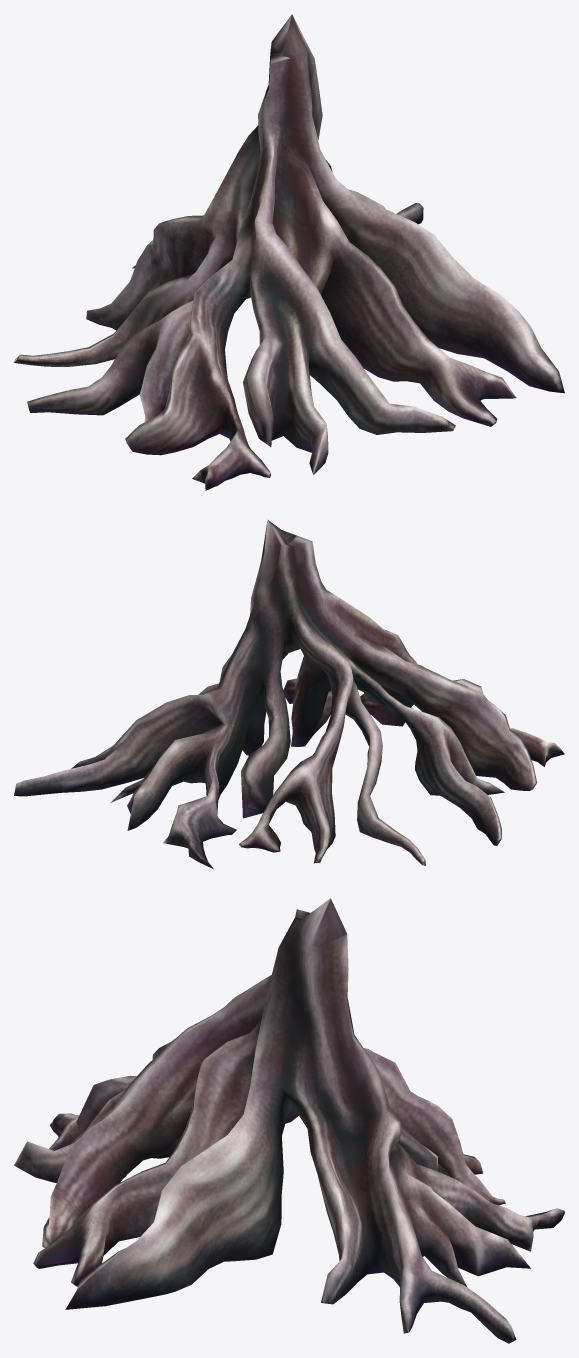
Rendered from TreeTrunk_DEFAULT.dae.
The picture shows the model from 3 angles, top to bottom: view 1: azimuth 30°, elevation 25°; view 2: azimuth 150°, elevation 25°; view 3: azimuth 270°, elevation 25°; orthographic projection. The views are drawn at different scales.
Parts seen in each view (by area): view 1: mesh0; view 2: mesh0; view 3: mesh0.
Boxes of the visible parts, left/top/right/bottom form: mesh0: left=14, top=14, right=564, bottom=490; mesh0: left=14, top=519, right=564, bottom=869; mesh0: left=14, top=898, right=564, bottom=1343.
Size of the model in its own units: 8.74 by 5.64 by 8.16.
